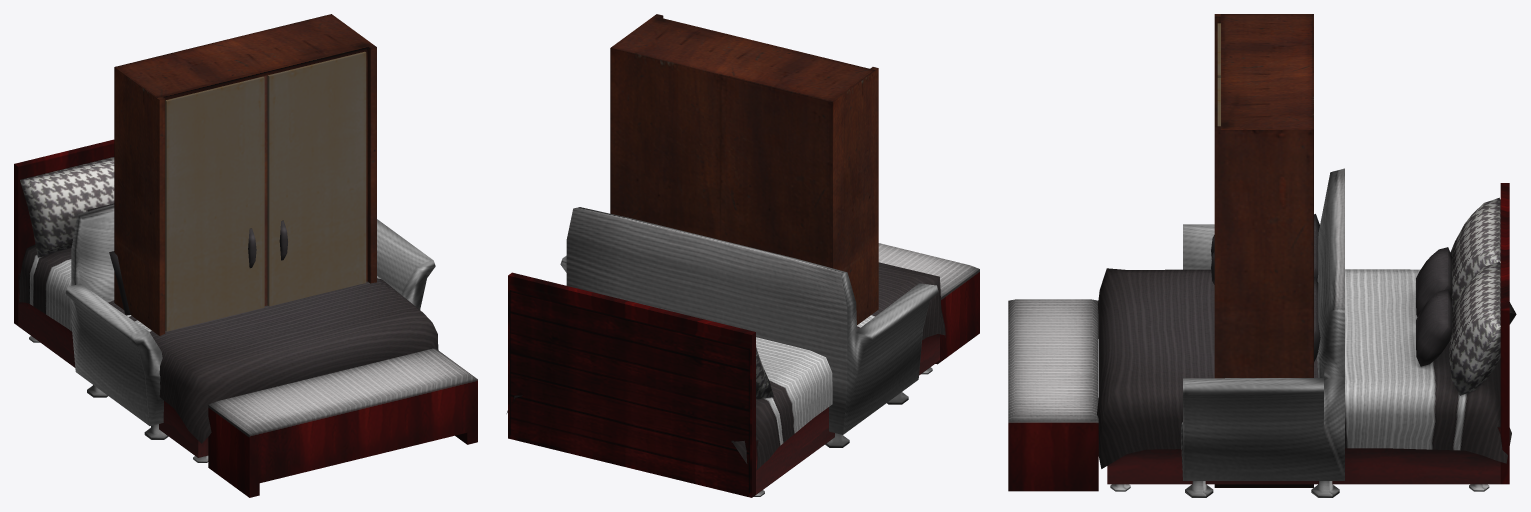
Rendered from fbx_furniiture_set01.fbx.
3 views of the same model, side by side, from view 1: azimuth 30°, elevation 25°; view 2: azimuth 150°, elevation 25°; view 3: azimuth 270°, elevation 25° (orthographic). The views are drawn at different scales.
Parts seen in each view (by area): view 1: furniture_bedRoom_bed_set01, cabinetBased, cabinetDoor_02, cabinetDoor_01, furniture_bedRoom_sofa_set01; view 2: furniture_bedRoom_bed_set01, cabinetBased, furniture_bedRoom_sofa_set01; view 3: furniture_bedRoom_bed_set01, cabinetBased, furniture_bedRoom_sofa_set01.
Part boxes in pixels (x1,y1,x2,y2): furniture_bedRoom_bed_set01: (14, 139, 477, 497); cabinetBased: (114, 14, 376, 335); cabinetDoor_02: (165, 76, 264, 331); cabinetDoor_01: (267, 51, 366, 306); furniture_bedRoom_sofa_set01: (65, 204, 435, 439); furniture_bedRoom_bed_set01: (506, 243, 979, 497); cabinetBased: (610, 14, 878, 324); furniture_bedRoom_sofa_set01: (560, 207, 938, 447); furniture_bedRoom_bed_set01: (1008, 183, 1516, 491); cabinetBased: (1214, 14, 1313, 487); furniture_bedRoom_sofa_set01: (1181, 168, 1344, 497).
Bounding box in the file's own units: 84.44 × 86.46 × 111.
